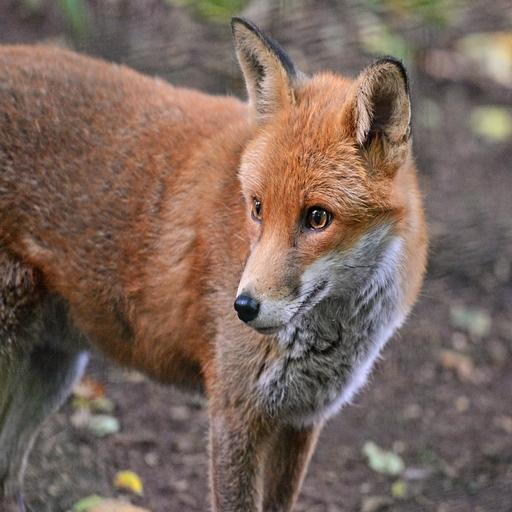Fox: (0, 16, 432, 510)
